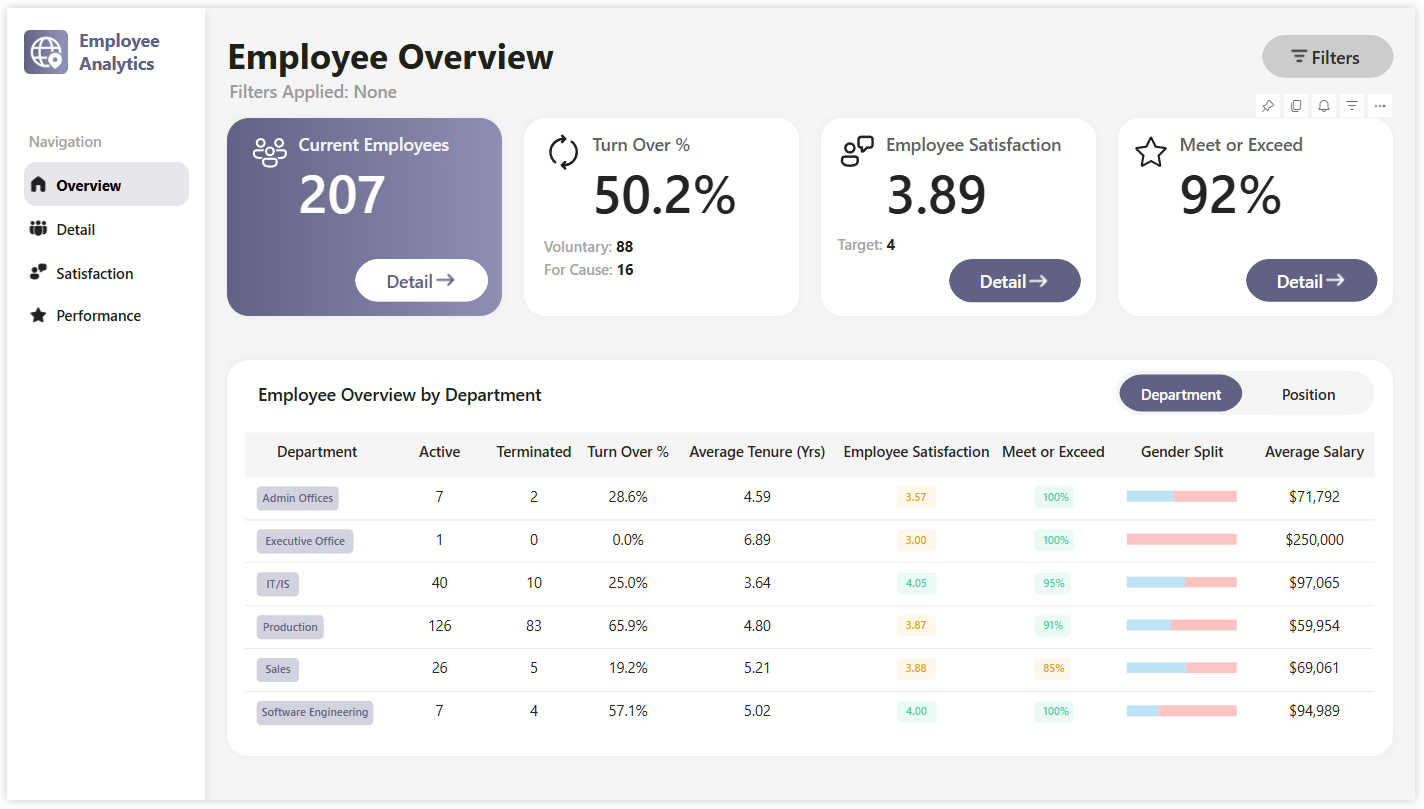

The dashboard page shown, as its layout file describes it:
{"tool":"powerbi","page":{"name":"Summary","canvas":[1280,720],"ordinal":0},"visuals":[{"type":"shape","box":[200,20,400,50],"z":0},{"type":"shape","box":[200,60,400,30],"z":1000},{"type":"cardVisual","fields":{"Data":["_Measures.activeEmps","_Measures.turnOver","_Measures.averageEmpSatisfaction","_Measures.perfEmpsExceed"]},"box":[200,100,1060,181.7],"z":2000},{"type":"tableEx","fields":{"Values":["Department.Department SVG","_Measures.activeEmps","_Measures.termEmps","_Measures.turnOver","_Measures.averageTenure","_Measures.svgEmpSatisfaction","_Measures.svgEmpPerformance","_Measures.svgGenderSplit","_Measures.averageSalary"]},"box":[210.3,380.7,1050.3,289],"z":3000},{"type":"advancedSlicerVisual","fields":{"Values":["paramDepartment.Parameter"]},"box":[1008.5,330.4,235.2,40.4],"z":4000},{"type":"actionButton","box":[856,228,120,39.6],"z":5000},{"type":"actionButton","box":[15,140,150,40],"z":6000},{"type":"actionButton","box":[15,180,150.8,40],"z":7000},{"type":"actionButton","box":[15,220,150.8,40],"z":8000},{"type":"actionButton","box":[15,259,150.8,39.8],"z":9000},{"type":"actionButton","box":[15,100,150.8,40],"z":10000},{"type":"actionButton","box":[1126,228,119.7,39],"z":11000},{"type":"actionButton","box":[316,228,121.2,39],"z":12000},{"type":"shape","box":[217.9,326.1,399.6,49.1],"z":13000},{"type":"actionButton","box":[1141.2,24.5,119.7,39],"z":14000},{"type":"shape","box":[65,18,105.8,42],"z":15000,"group":"g1"},{"type":"image","box":[15,20.2,40.3,40.3],"z":15001,"group":"g1"},{"type":"group","id":"g1","title":"Group 1","box":[15,18,155.8,42.5],"z":15002}]}

Visuals, with their boxes in screenshot pixels (x1, y1, x2, y2), scaled from the page's 1280x720 canvas onto the 1424x809 screenshot:
shape: left=222, top=22, right=668, bottom=79
shape: left=222, top=67, right=668, bottom=101
cardVisual - _Measures.activeEmps x _Measures.turnOver: left=222, top=112, right=1402, bottom=317
tableEx - Department.Department SVG x _Measures.activeEmps: left=234, top=428, right=1402, bottom=752
advancedSlicerVisual - paramDepartment.Parameter: left=1122, top=371, right=1384, bottom=417
actionButton: left=952, top=256, right=1086, bottom=301
actionButton: left=17, top=157, right=184, bottom=202
actionButton: left=17, top=202, right=184, bottom=247
actionButton: left=17, top=247, right=184, bottom=292
actionButton: left=17, top=291, right=184, bottom=336
actionButton: left=17, top=112, right=184, bottom=157
actionButton: left=1253, top=256, right=1386, bottom=300
actionButton: left=352, top=256, right=486, bottom=300
shape: left=242, top=366, right=687, bottom=422
actionButton: left=1270, top=28, right=1403, bottom=71
shape: left=72, top=20, right=190, bottom=67
image: left=17, top=23, right=62, bottom=68
"Group 1" group: left=17, top=20, right=190, bottom=68
